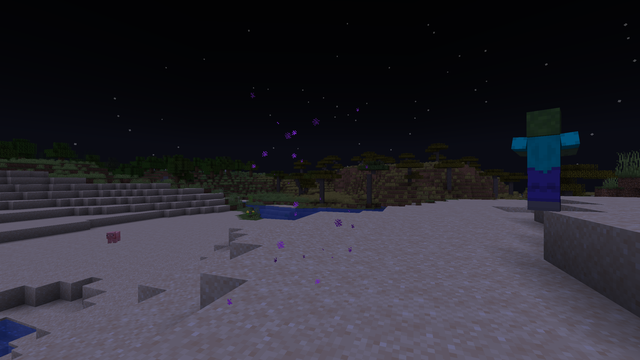cochons: (105, 230, 122, 242)
zombies: (520, 109, 570, 211)
